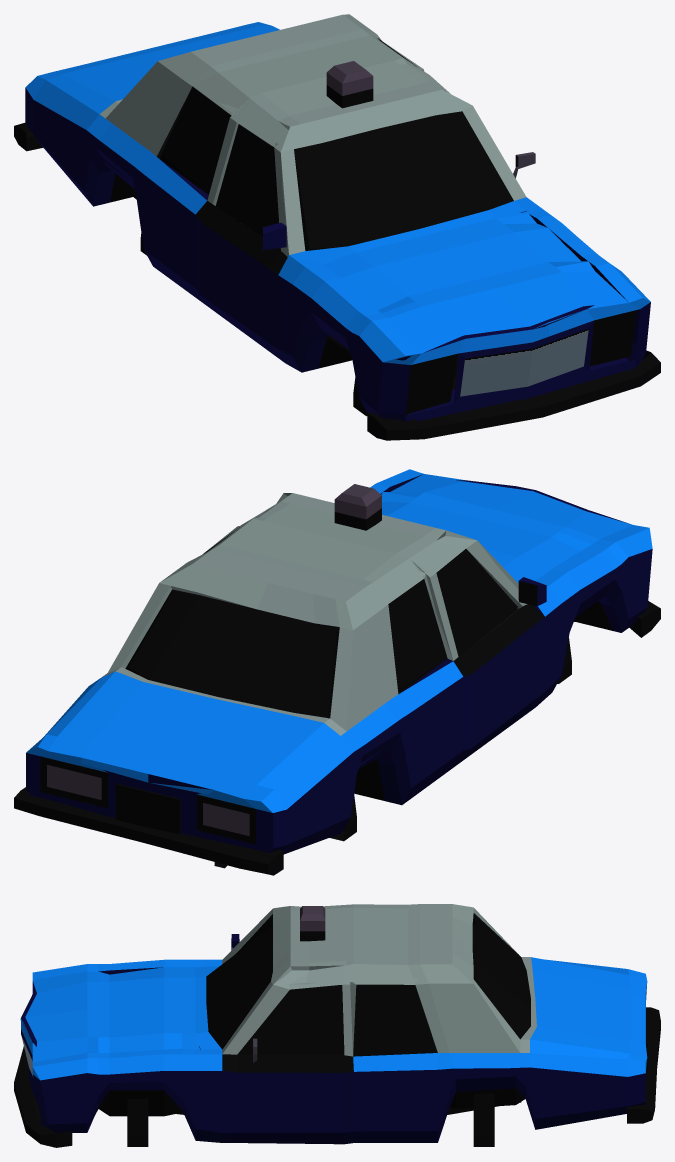
The model's file is 226_kori_copcar_japan.gltf.
3 renders of one model, top to bottom at view 1: azimuth 30°, elevation 25°; view 2: azimuth 150°, elevation 25°; view 3: azimuth 270°, elevation 25°, orthographic. The views are drawn at different scales.
Parts seen in each view (by area): view 1: kori_copcar_japan; view 2: kori_copcar_japan; view 3: kori_copcar_japan.
Boxes of the visible parts, x1,y1,x2,y2 form: kori_copcar_japan: [14, 14, 660, 440]; kori_copcar_japan: [14, 469, 660, 875]; kori_copcar_japan: [14, 904, 660, 1147].
Size of the model in its own units: 3.05 by 2.46 by 7.33.
1 material, 1 textured.
